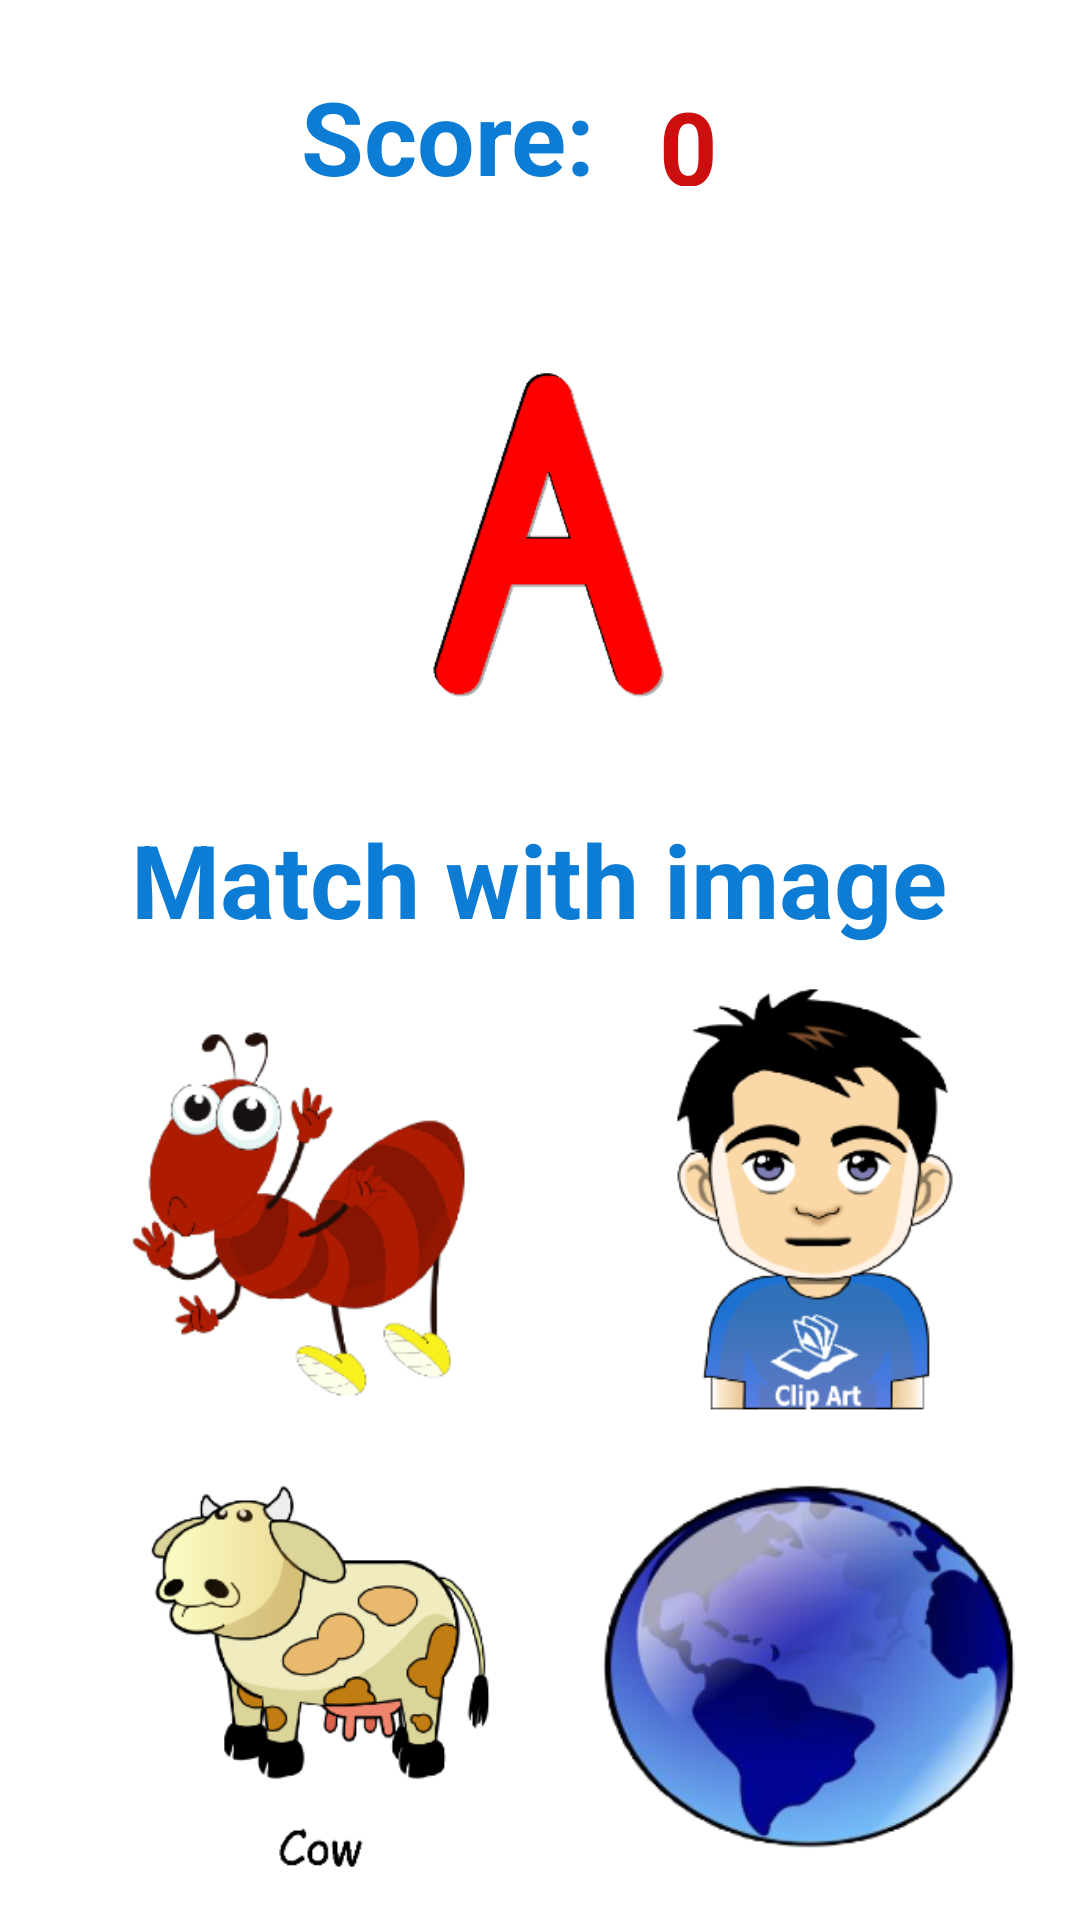

Named icons in this screenshot (1080 × 1920) and their bounding boxes, [x1=x1, y1=y1, x2=x2, y2=y2]:
letter: [x1=433, y1=373, x2=664, y2=696]
